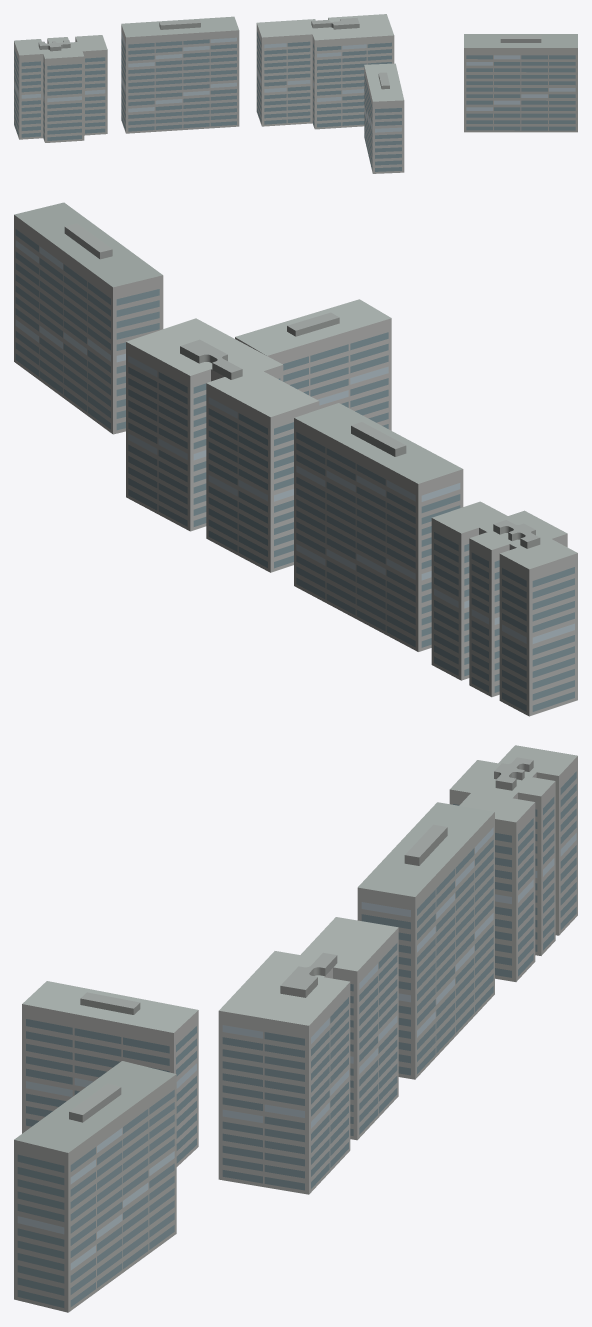
The model's file is apt-a13382104.glb.
The picture shows the model from 3 angles, top to bottom: view 1: azimuth 30°, elevation 25°; view 2: azimuth 150°, elevation 25°; view 3: azimuth 270°, elevation 25°; orthographic projection. The views are drawn at different scales.
Visible parts, largest first — view 1: apt-a13382104; view 2: apt-a13382104; view 3: apt-a13382104.
Part boxes in pixels (x1=…): apt-a13382104: x1=14, y1=14, x2=577, y2=173; apt-a13382104: x1=14, y1=202, x2=577, y2=716; apt-a13382104: x1=14, y1=745, x2=577, y2=1312.
Bounding box in the file's own units: 183 × 40 × 107.
